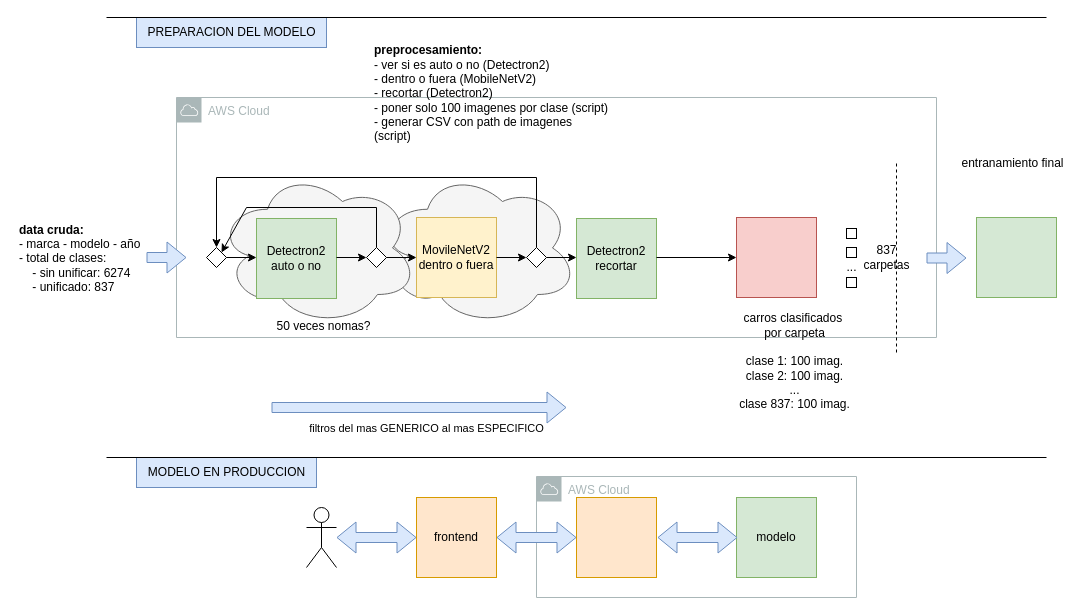
This 1089x615 diagram has some shape labels left out. The shapes that lost their labels are listed below. From the top down, each one's box as (x1, y1, x2, y2) in pixels, then its label:
(736, 216, 816, 298): script 837 carpetas
(976, 216, 1056, 298): por definir clasificacion final
(306, 506, 336, 568): Actor
(576, 496, 656, 578): backend
